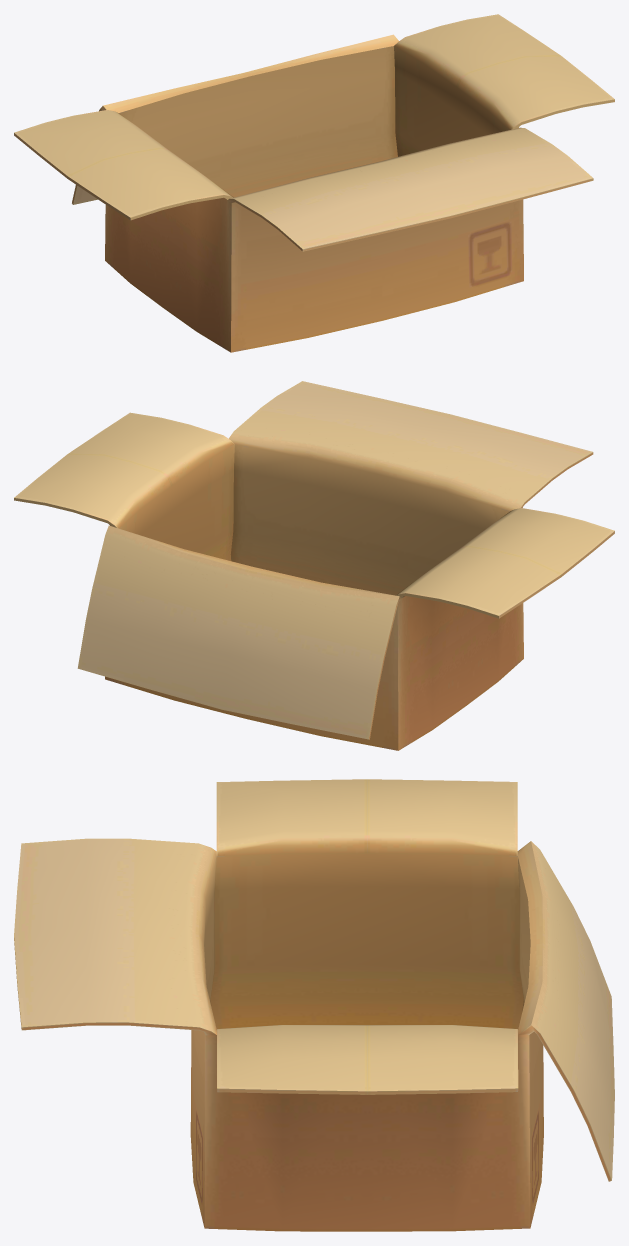
The model's file is carton_boxes5.fbx.
The picture shows the model from 3 angles, top to bottom: view 1: azimuth 30°, elevation 25°; view 2: azimuth 150°, elevation 25°; view 3: azimuth 270°, elevation 25°; orthographic projection. The views are drawn at different scales.
Visible parts, largest first — view 1: carton_boxes5; view 2: carton_boxes5; view 3: carton_boxes5.
Boxes of the visible parts, box(x1,y1,x2,y2) form: carton_boxes5: box(14, 14, 614, 352); carton_boxes5: box(14, 381, 614, 750); carton_boxes5: box(14, 779, 614, 1231).
Bounding box in the file's own units: 195 × 62.02 × 159.
Materials: 1 (1 with a texture image).
